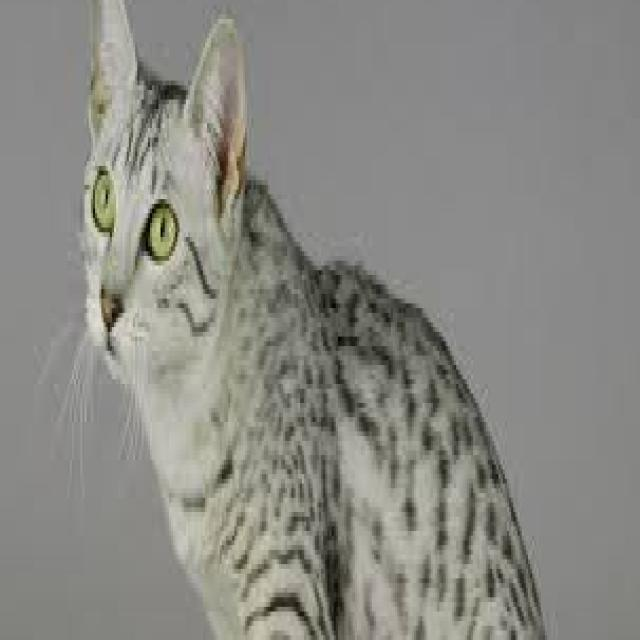Egyptian Mau: (76, 0, 558, 640)
